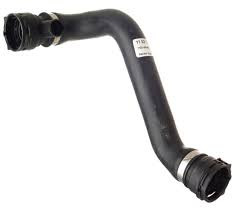radiator_hose: (7, 9, 228, 201)
